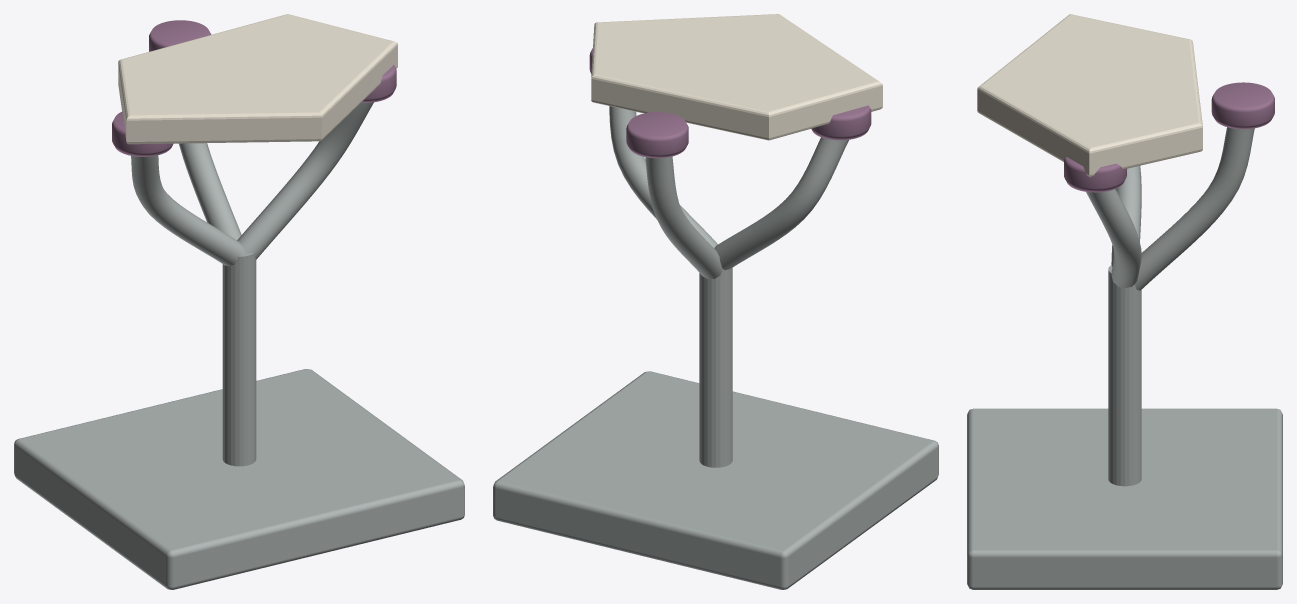
File: museum-conservation-and-art-restoration-museum-conserv-19250da2__31908.glb
The picture shows the model from 3 angles, left to right: view 1: azimuth 30°, elevation 25°; view 2: azimuth 150°, elevation 25°; view 3: azimuth 270°, elevation 25°; orthographic projection.
Visible parts, largest first — view 1: museum-conservation-and-art-restoration-forked-fragment-supp (×3); view 2: museum-conservation-and-art-restoration-forked-fragment-supp (×3); view 3: museum-conservation-and-art-restoration-forked-fragment-supp (×3).
Part boxes in pixels (x1=…): museum-conservation-and-art-restoration-forked-fragment-supp (×3): x1=14, y1=14, x2=464, y2=589; museum-conservation-and-art-restoration-forked-fragment-supp (×3): x1=493, y1=14, x2=938, y2=589; museum-conservation-and-art-restoration-forked-fragment-supp (×3): x1=967, y1=14, x2=1282, y2=589.
Bounding box in the file's own units: 0.35 × 0.49 × 0.32.
